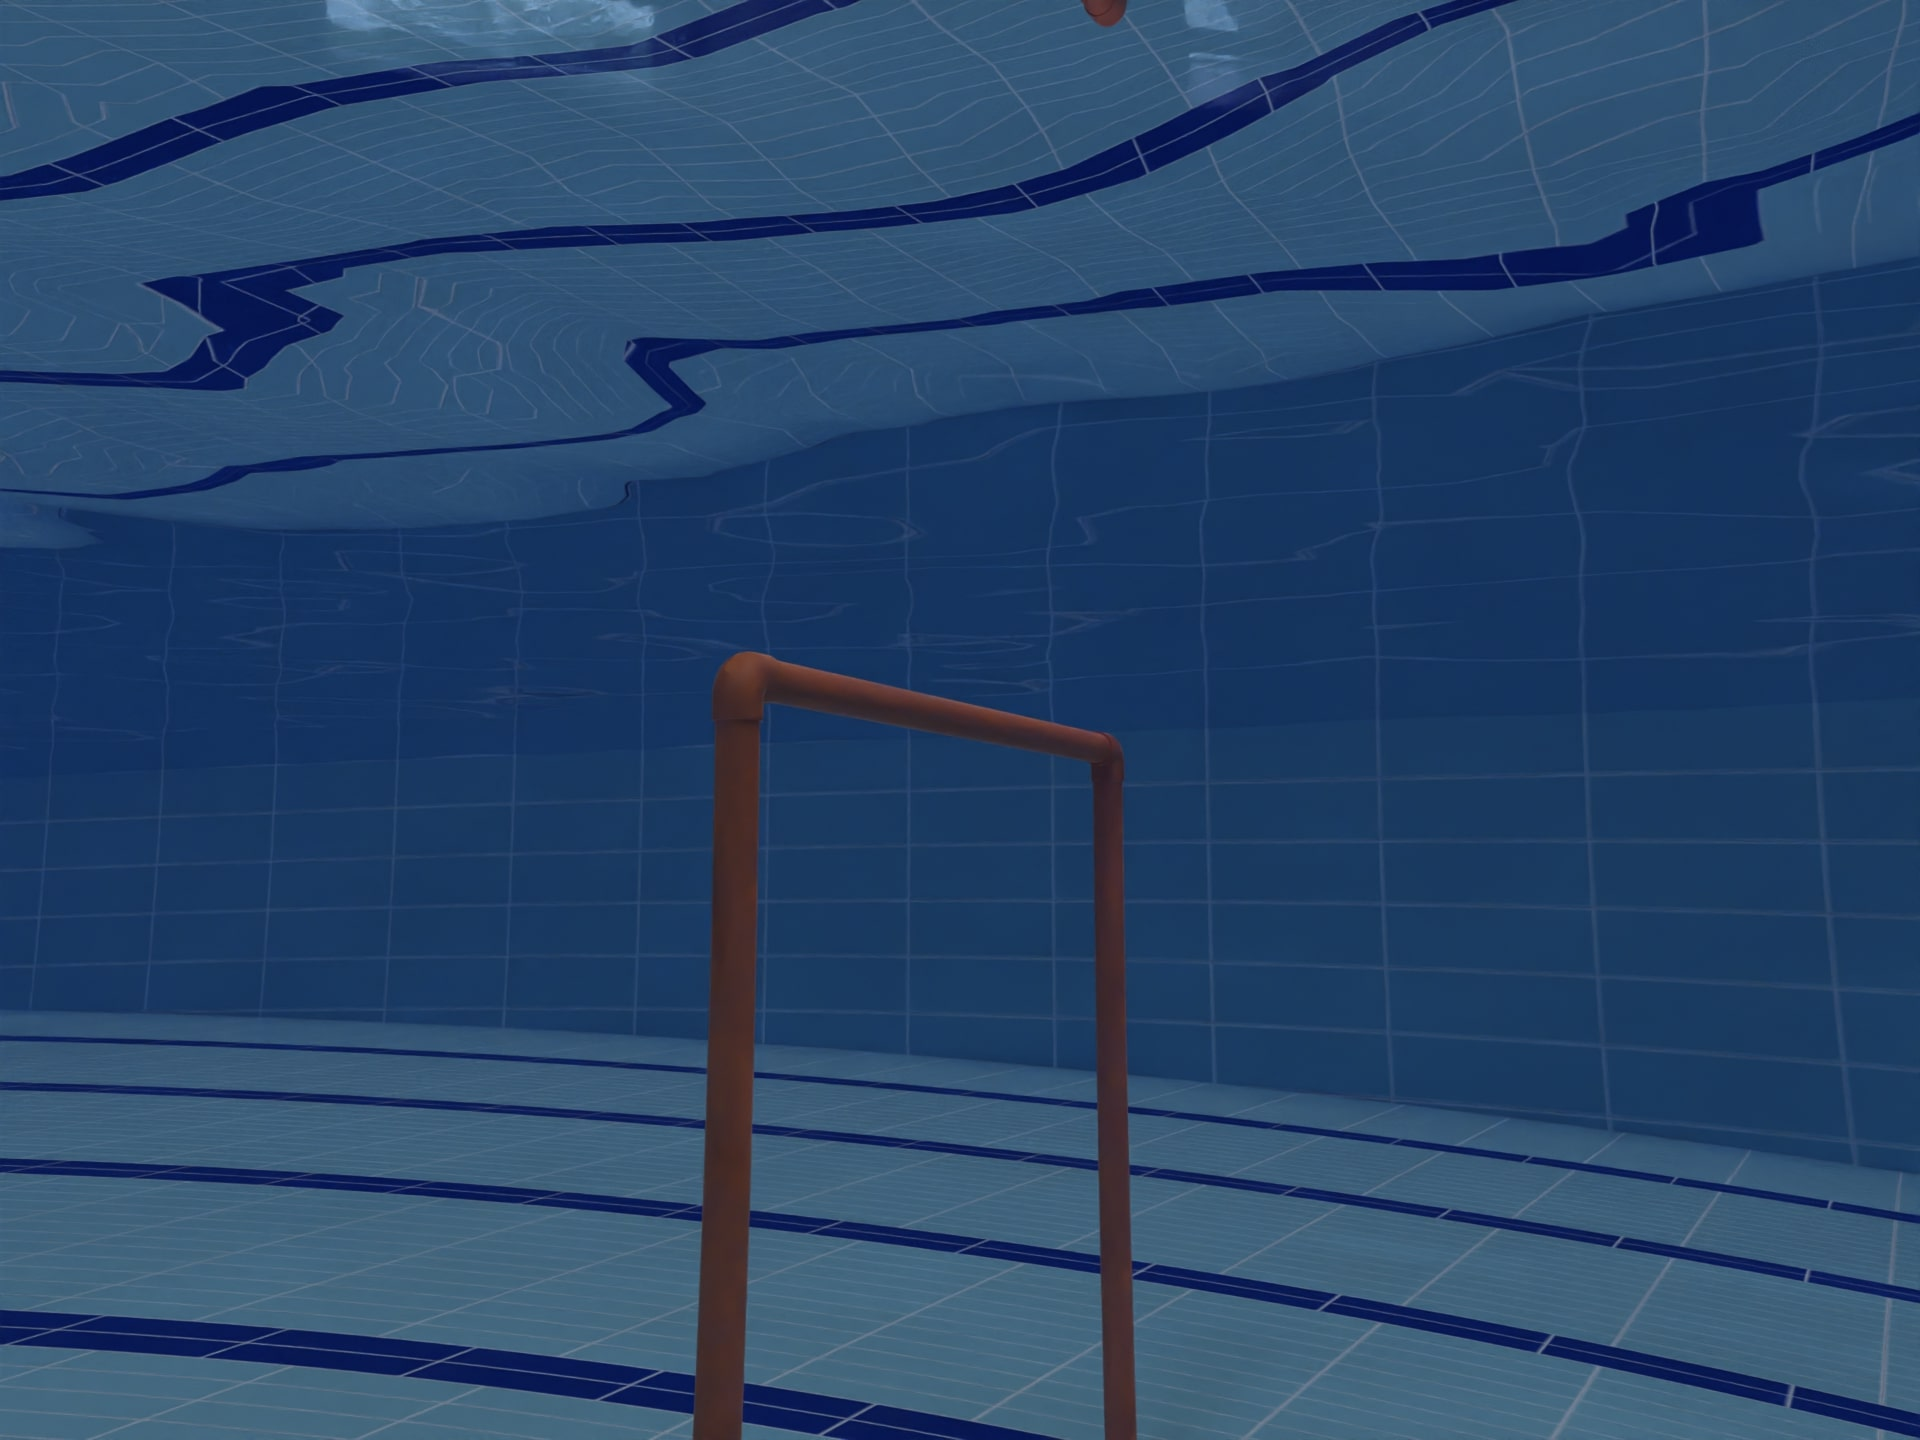gate: (671, 590, 1262, 1440)
